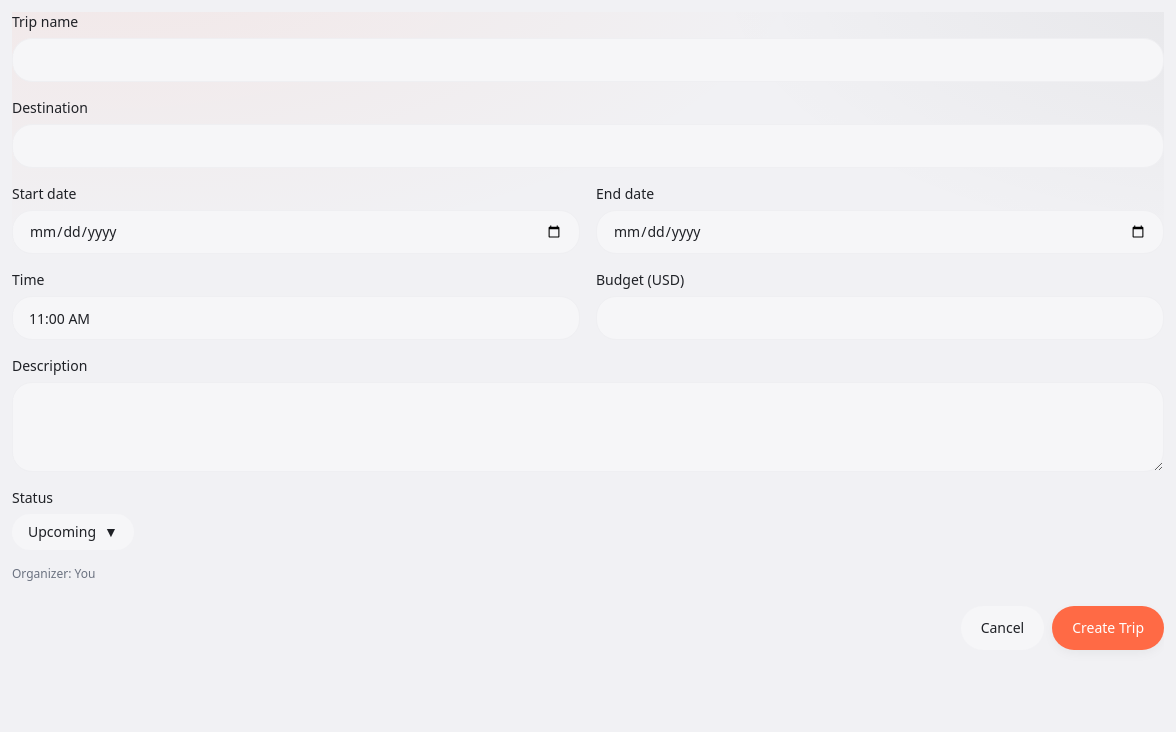
Scenario: TripForm › shows validation errors when required fields are missing
What coordinates should you click on to do the following:
click the button "Create Trip"
I would click on:
 (1108, 628)
Its box is [1052, 606, 1164, 650].
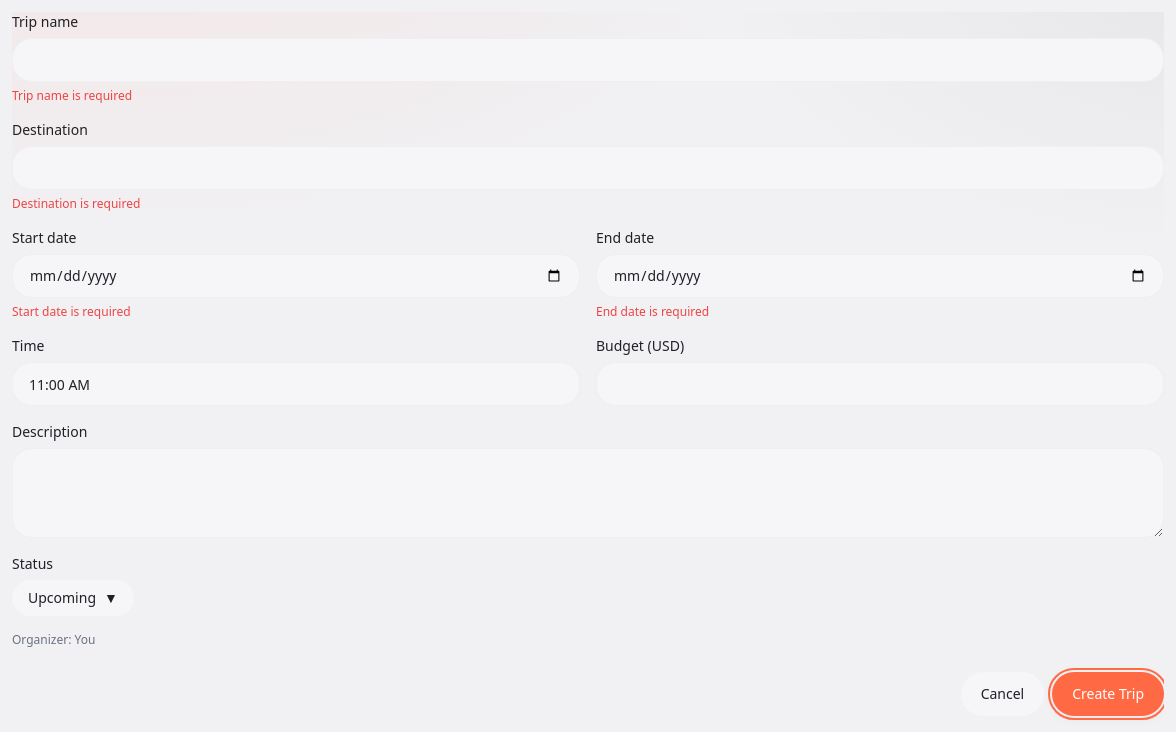
Expected: the text "Trip name is required" is shown, [12, 87, 132, 104]
Expected: the text "Destination is required" is shown, [12, 195, 140, 212]
